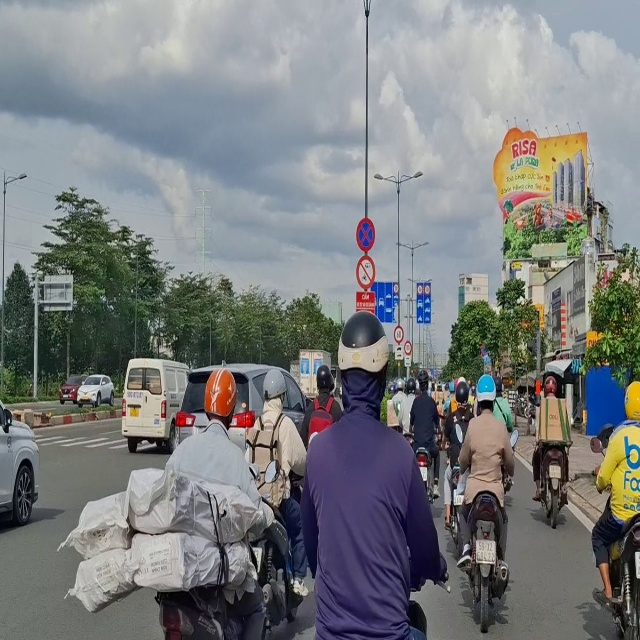cam dung cam do: (349, 215, 377, 255)
